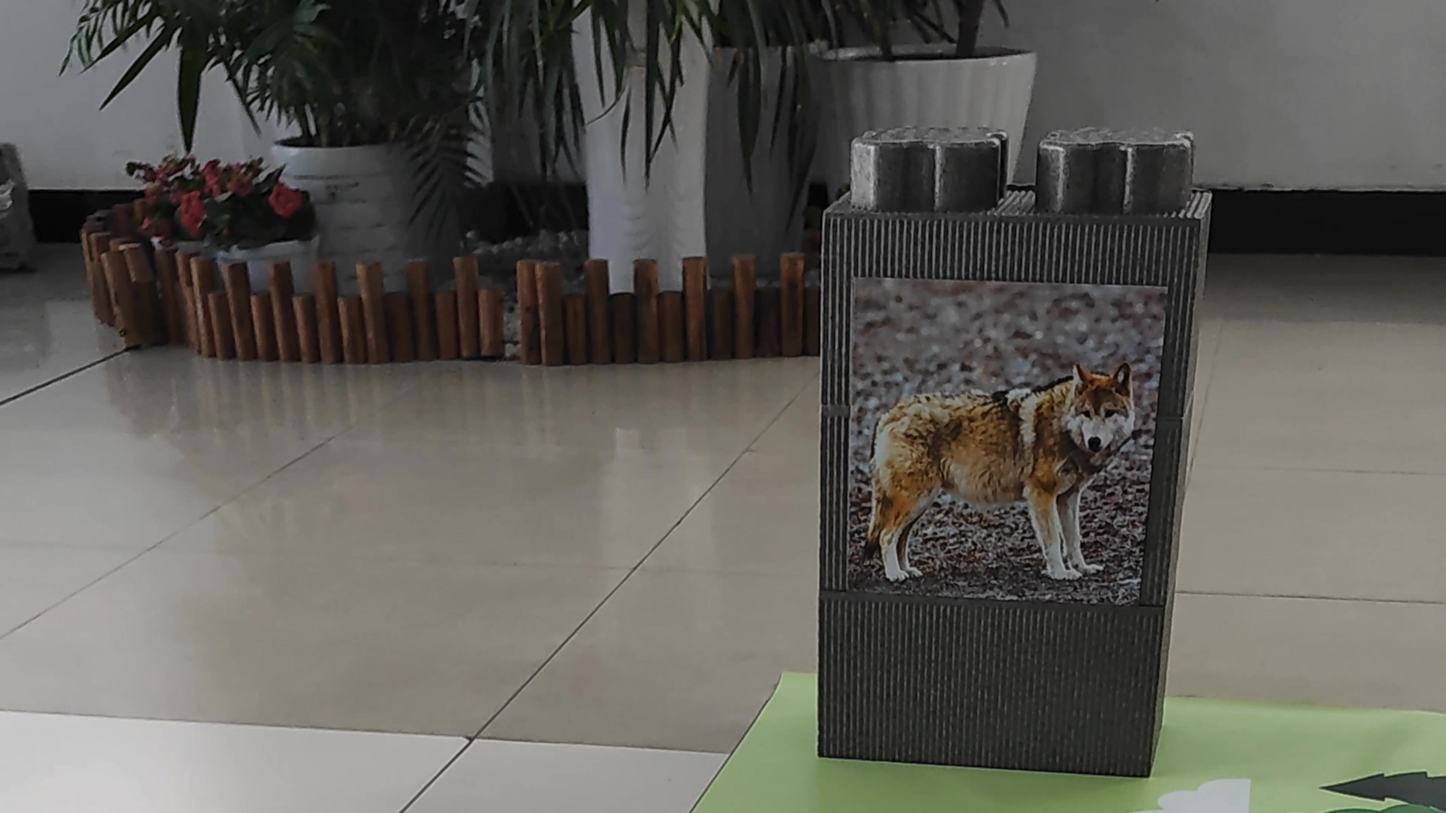wolf: (853, 338, 1143, 617)
